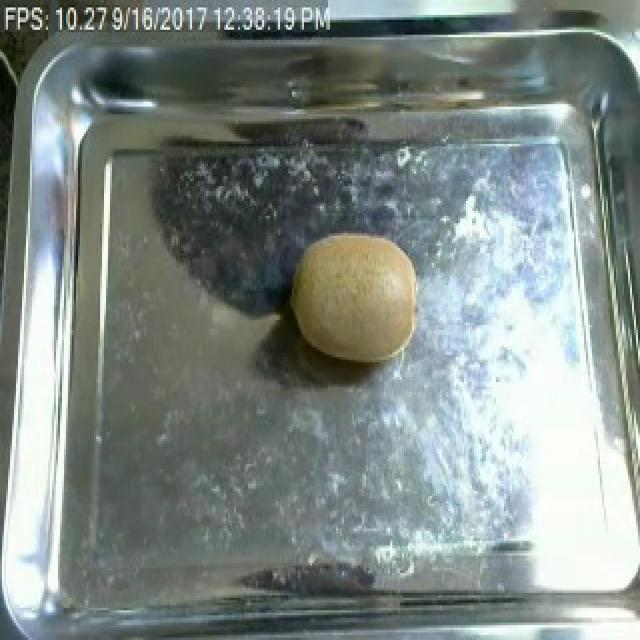Fruit: (282, 223, 426, 370)
